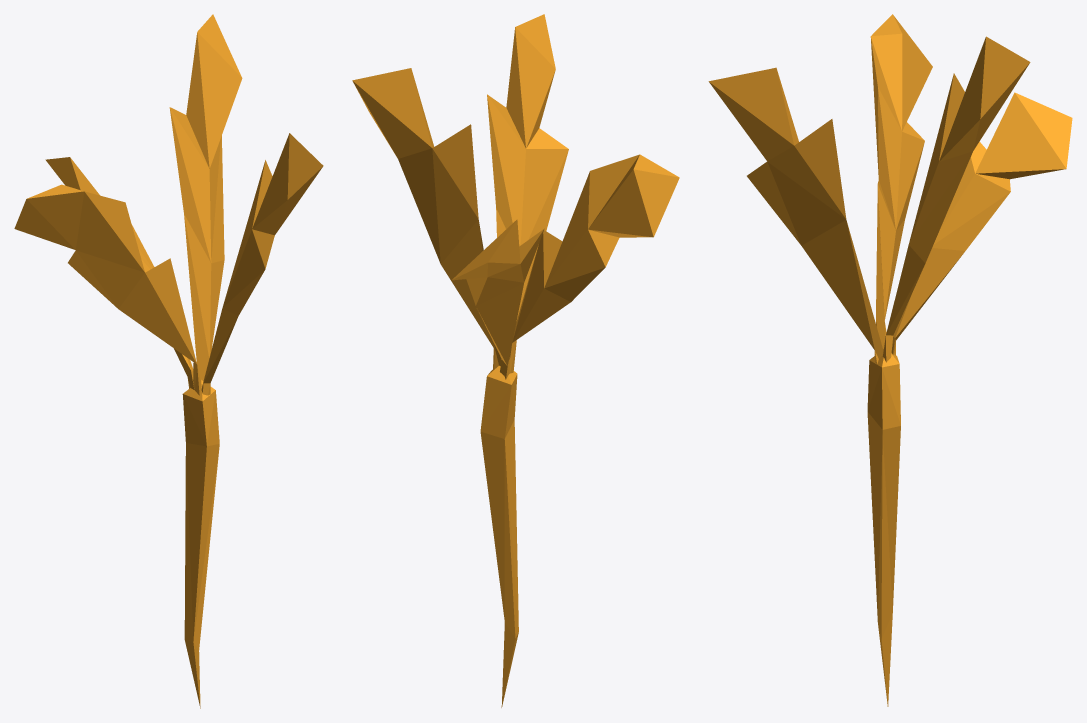
Rendered from SM_Carrot_Plant_Sapling_Root.fbx.
3 views of the same model, side by side, from view 1: azimuth 30°, elevation 25°; view 2: azimuth 150°, elevation 25°; view 3: azimuth 270°, elevation 25° (orthographic). The views are drawn at different scales.
Parts seen in each view (by area): view 1: carrot-plant-sapling-root; view 2: carrot-plant-sapling-root; view 3: carrot-plant-sapling-root.
Part boxes in pixels (x1,y1,x2,y2): carrot-plant-sapling-root: (14, 14, 323, 708); carrot-plant-sapling-root: (352, 14, 679, 707); carrot-plant-sapling-root: (708, 14, 1072, 706).
Size of the model in its own units: 0.1416 by 0.3351 by 0.1591.
